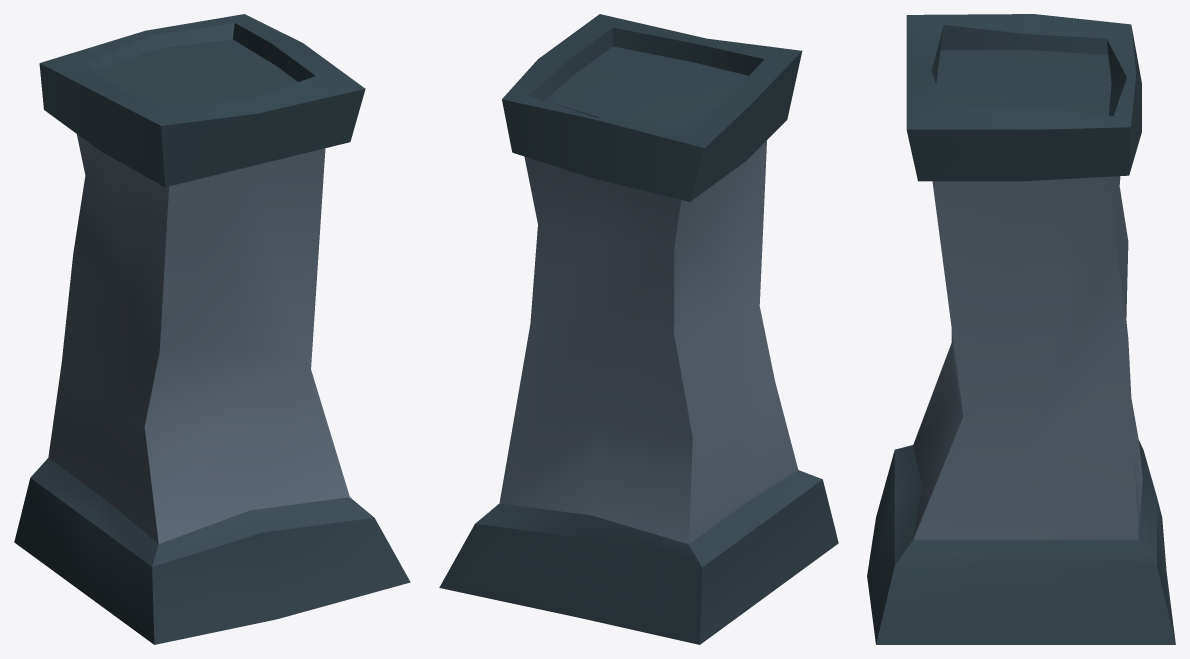
Rendered from Pillar_dent_A.fbx.
3 renders of one model, left to right at view 1: azimuth 30°, elevation 25°; view 2: azimuth 150°, elevation 25°; view 3: azimuth 270°, elevation 25°, orthographic. The views are drawn at different scales.
Parts seen in each view (by area): view 1: Pillar_dent_A; view 2: Pillar_dent_A; view 3: Pillar_dent_A.
Part boxes in pixels (x1=…): Pillar_dent_A: x1=14, y1=14, x2=410, y2=644; Pillar_dent_A: x1=439, y1=14, x2=838, y2=644; Pillar_dent_A: x1=867, y1=14, x2=1175, y2=644.
Size of the model in its own units: 50.96 by 95.49 by 52.09.
